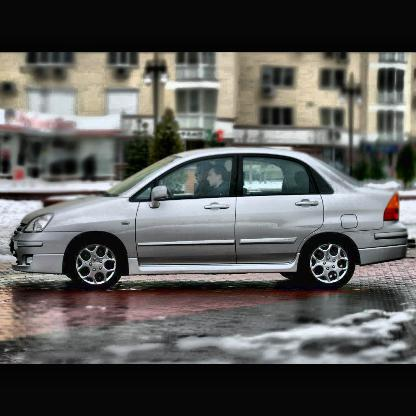Suzuki Aerio Sedan 2007: (7, 144, 412, 301)
